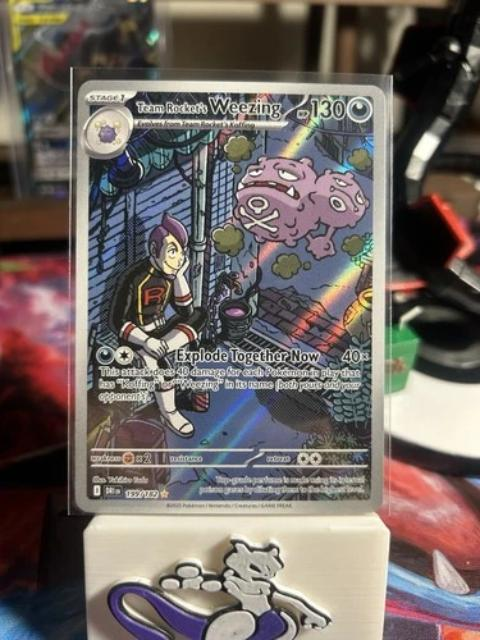Card: (67, 76, 389, 516)
Name: (131, 91, 285, 119)
